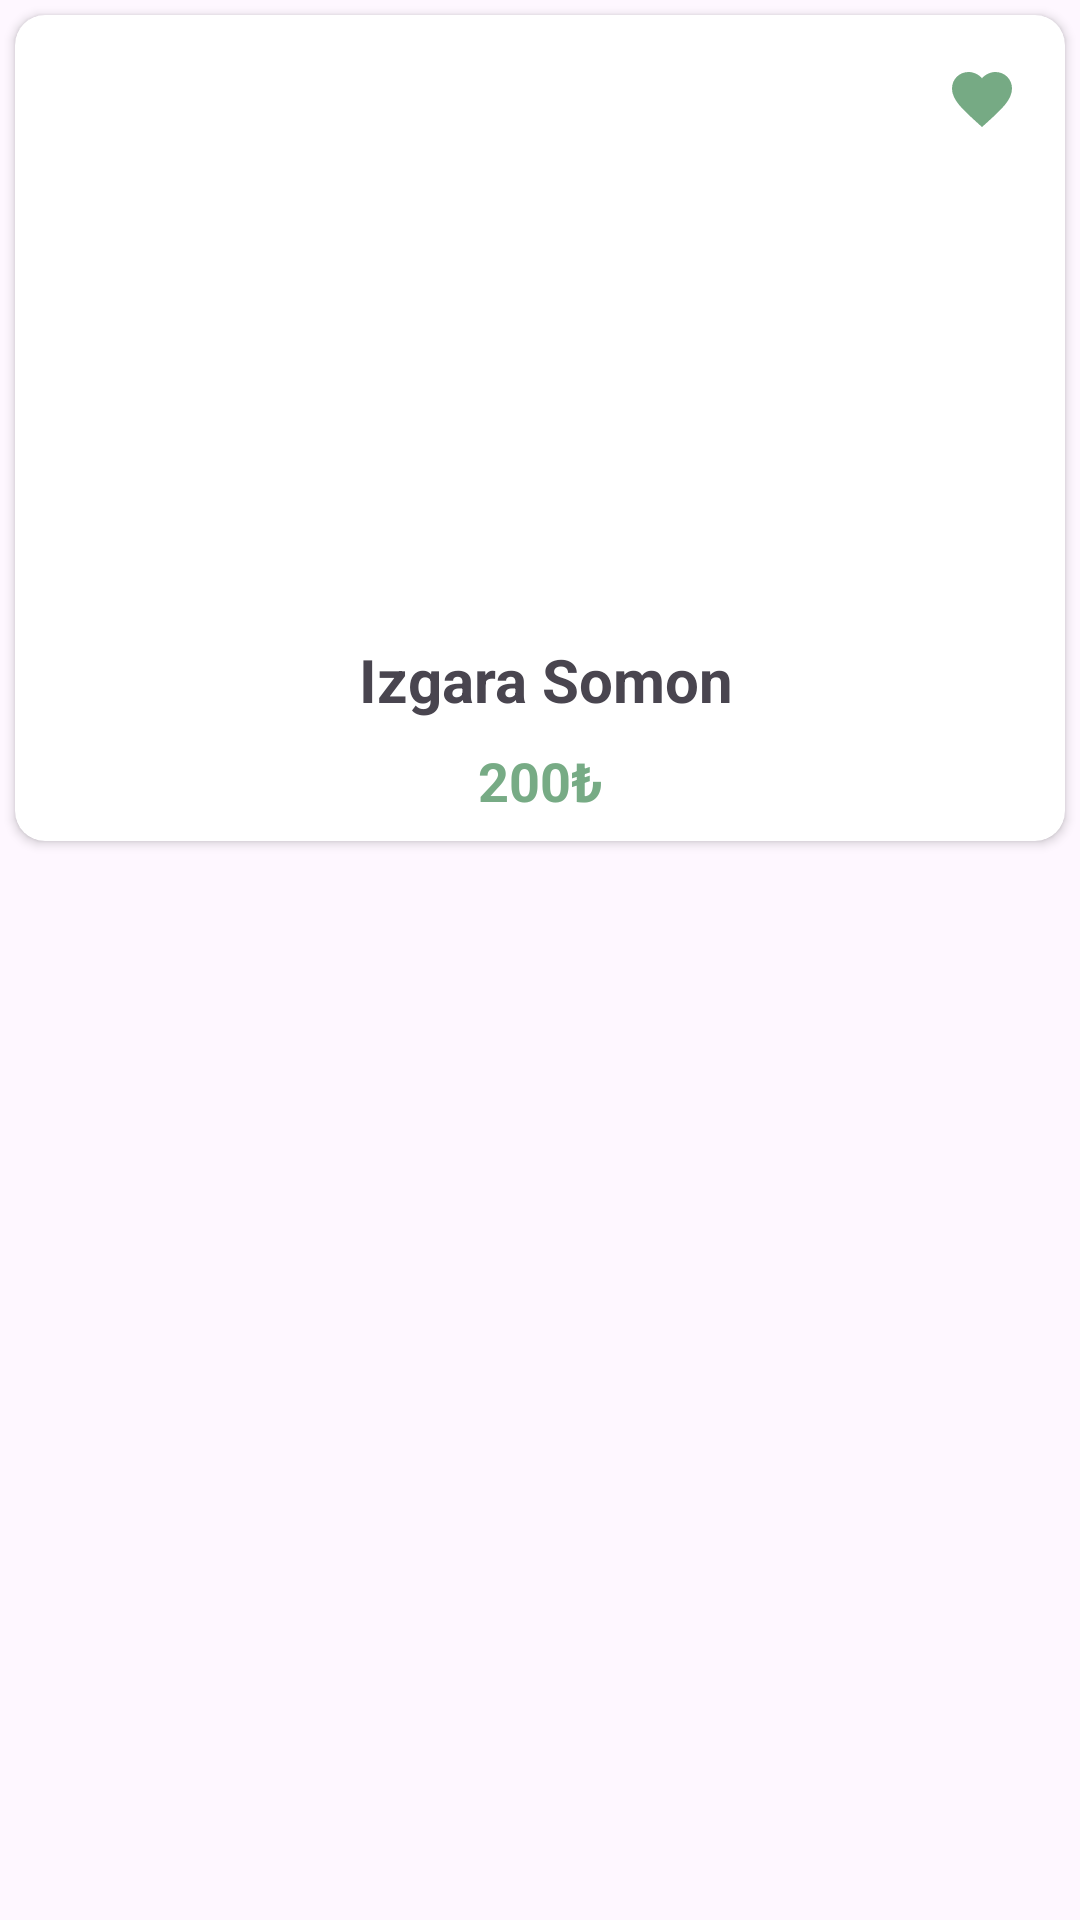

Where to tap for icons on this 1080px x 1920px app screen, as [x,y]:
favdolu: [982,99]
